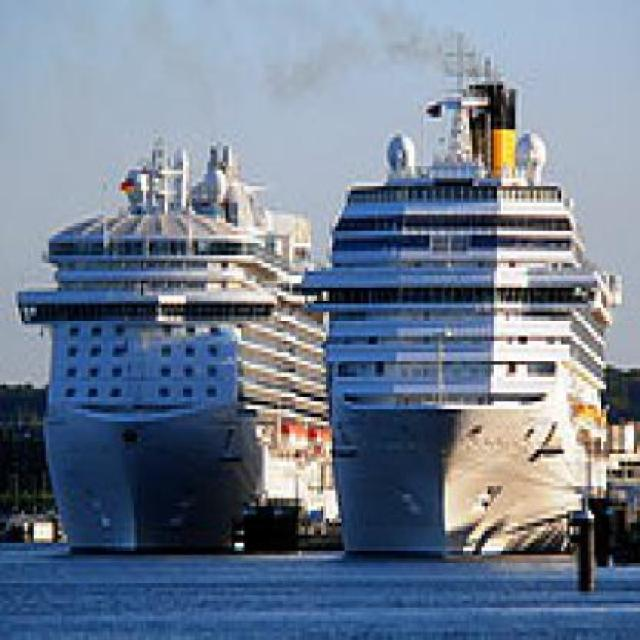cruise: (293, 30, 635, 581), (10, 110, 355, 561)
